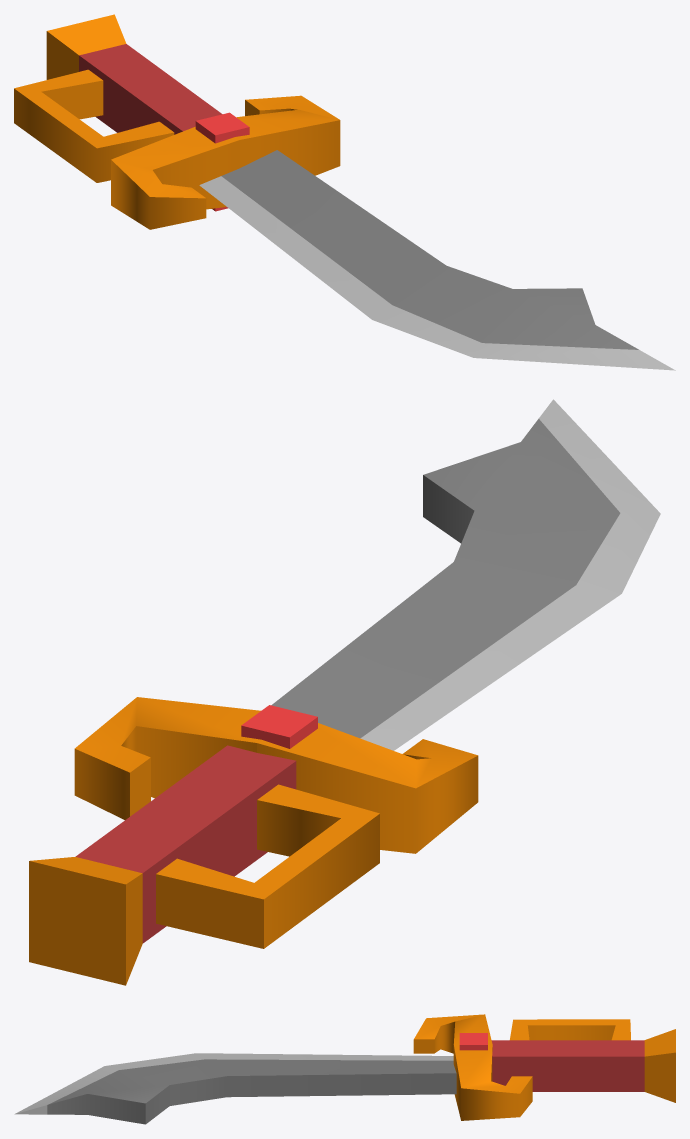
File: Sword 03.FBX
The picture shows the model from 3 angles, top to bottom: view 1: azimuth 30°, elevation 25°; view 2: azimuth 150°, elevation 25°; view 3: azimuth 270°, elevation 25°; orthographic projection. The views are drawn at different scales.
Parts seen in each view (by area): view 1: Sword 03; view 2: Sword 03; view 3: Sword 03.
Boxes of the visible parts, x1,y1,x2,y2 form: Sword 03: (14,14,675,370); Sword 03: (29,399,660,985); Sword 03: (14,1014,675,1124).
Size of the model in its own units: 25.85 by 7.94 by 87.88.
